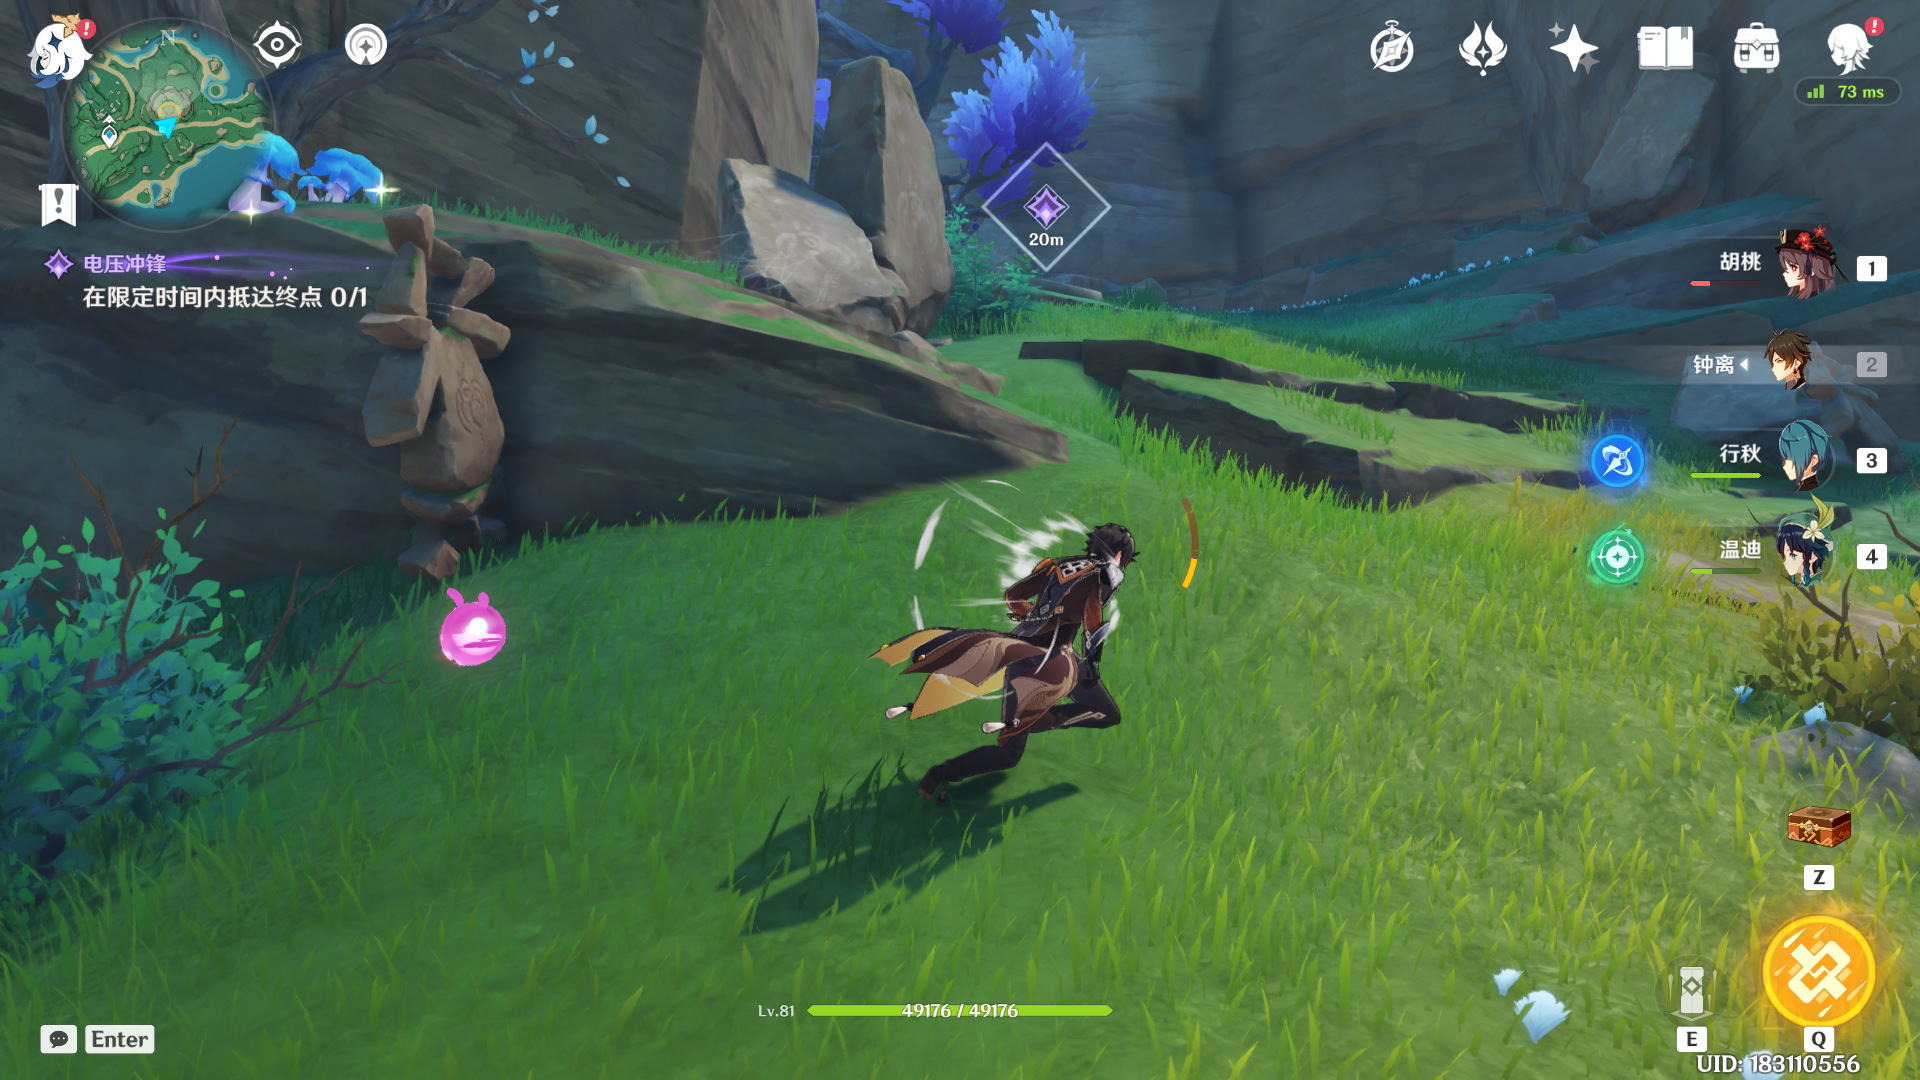character: (870, 463, 1182, 862)
